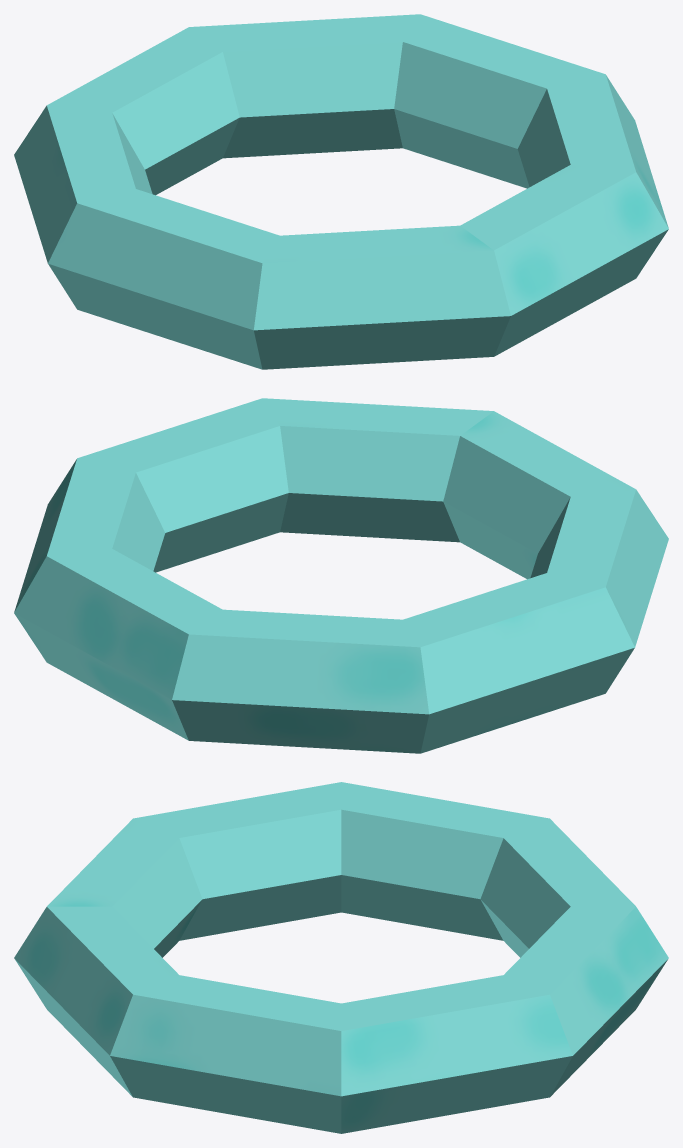
Rendered from toroid.obj.
3 renders of one model, top to bottom at view 1: azimuth 30°, elevation 25°; view 2: azimuth 150°, elevation 25°; view 3: azimuth 270°, elevation 25°, orthographic. The views are drawn at different scales.
Visible parts, largest first — view 1: Torus; view 2: Torus; view 3: Torus.
Boxes of the visible parts, x1,y1,x2,y2 form: Torus: (14, 14, 668, 369); Torus: (14, 398, 668, 753); Torus: (14, 782, 668, 1133).
Size of the model in its own units: 0.5875 by 0.1018 by 0.5875.
